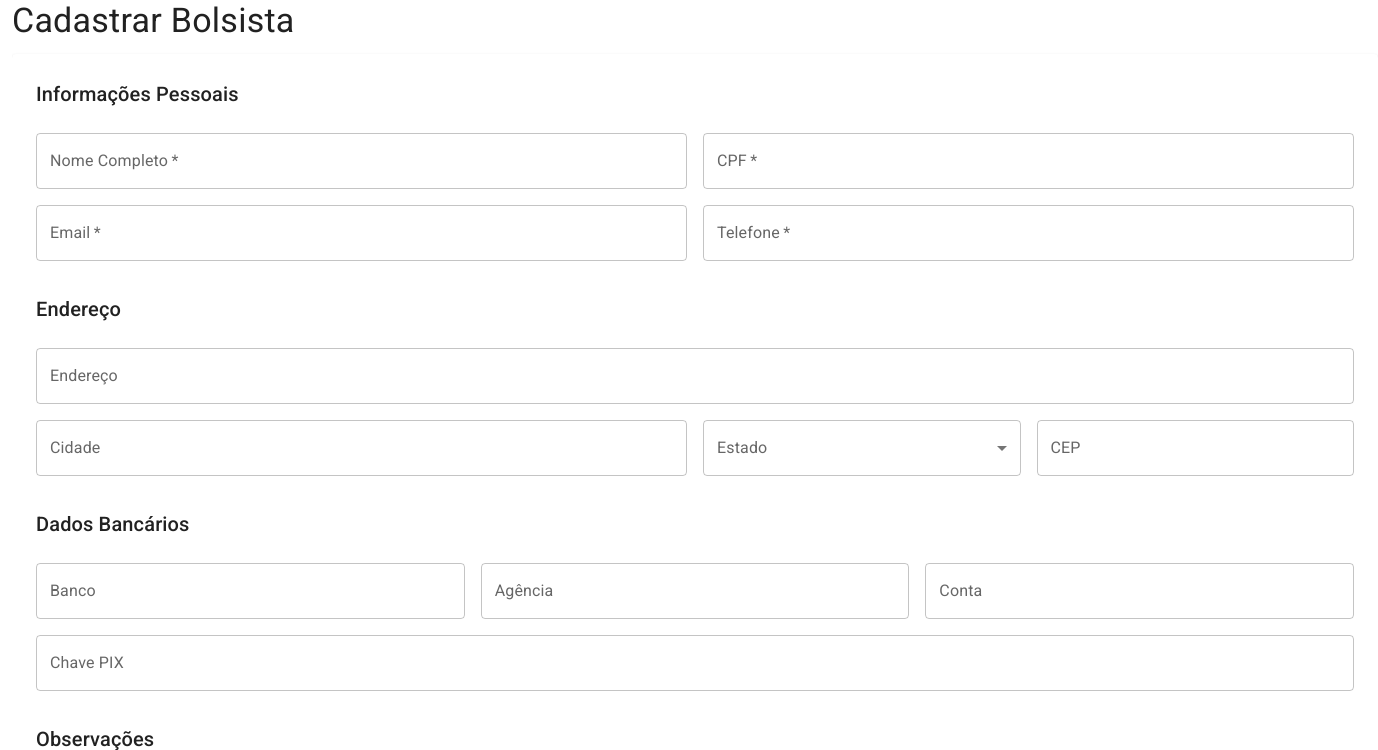
Scenario: BolsistasForm Component › valida CPF inválido
The image size is (1378, 750).
# Preencher com CPF inválido
Type "111.111.111-11" into the field labelled "CPF *" at coordinates (1028, 161), box [703,133,1354,189]
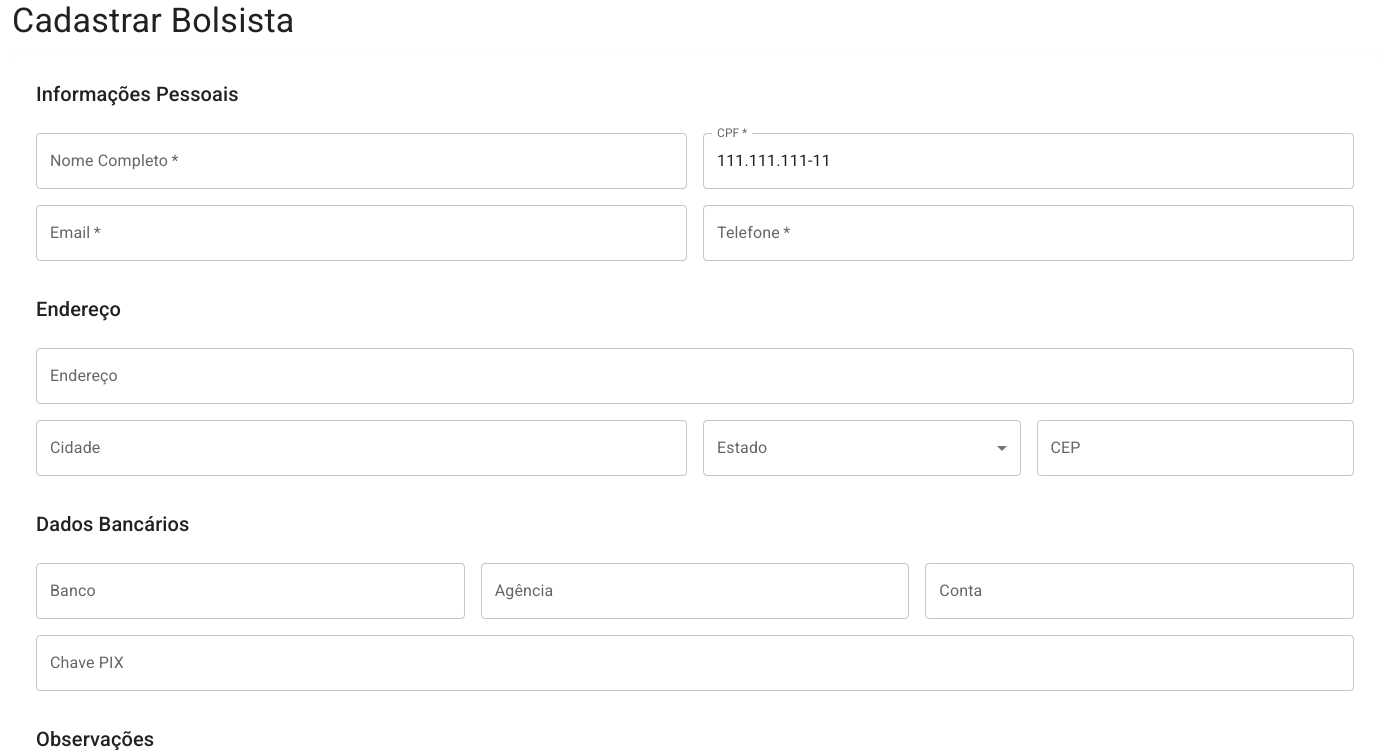
# Preencher outros campos obrigatórios
Type "João da Silva" into the field labelled "Nome Completo *" at coordinates (362, 161), box [36,133,687,189]
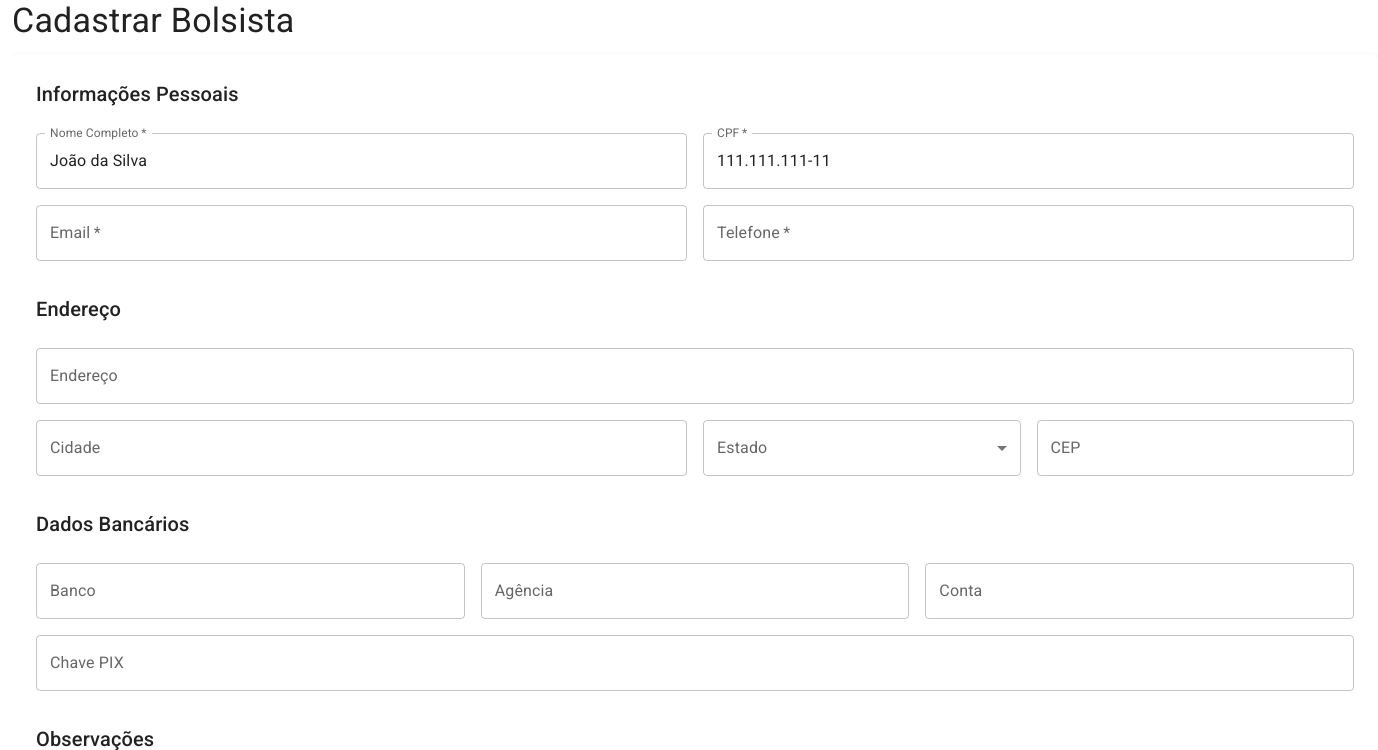
Type "joao@example.com" into the field labelled "Email *" at coordinates (362, 233), box [36,205,687,261]
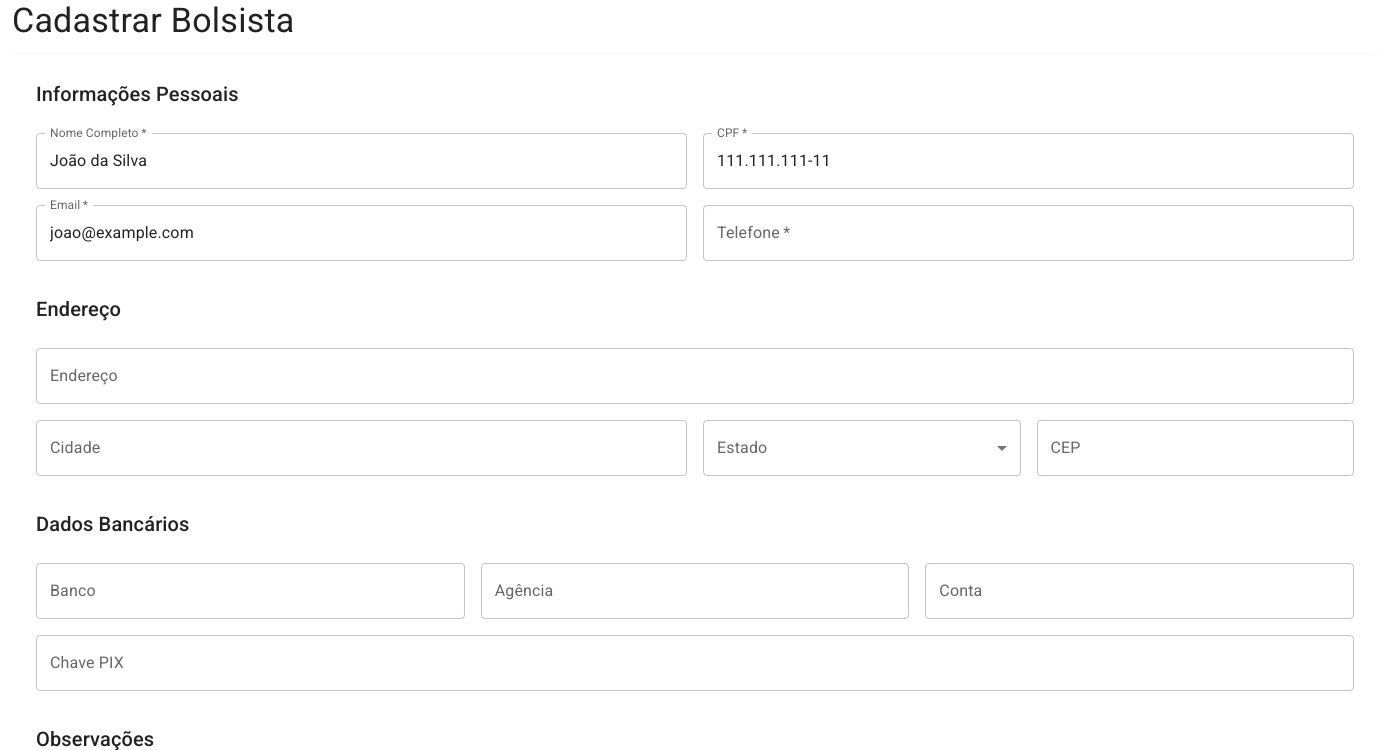
Type "(85) 99999-9999" into the field labelled "Telefone *" at coordinates (1028, 233), box [703,205,1354,261]
(page scrolled)
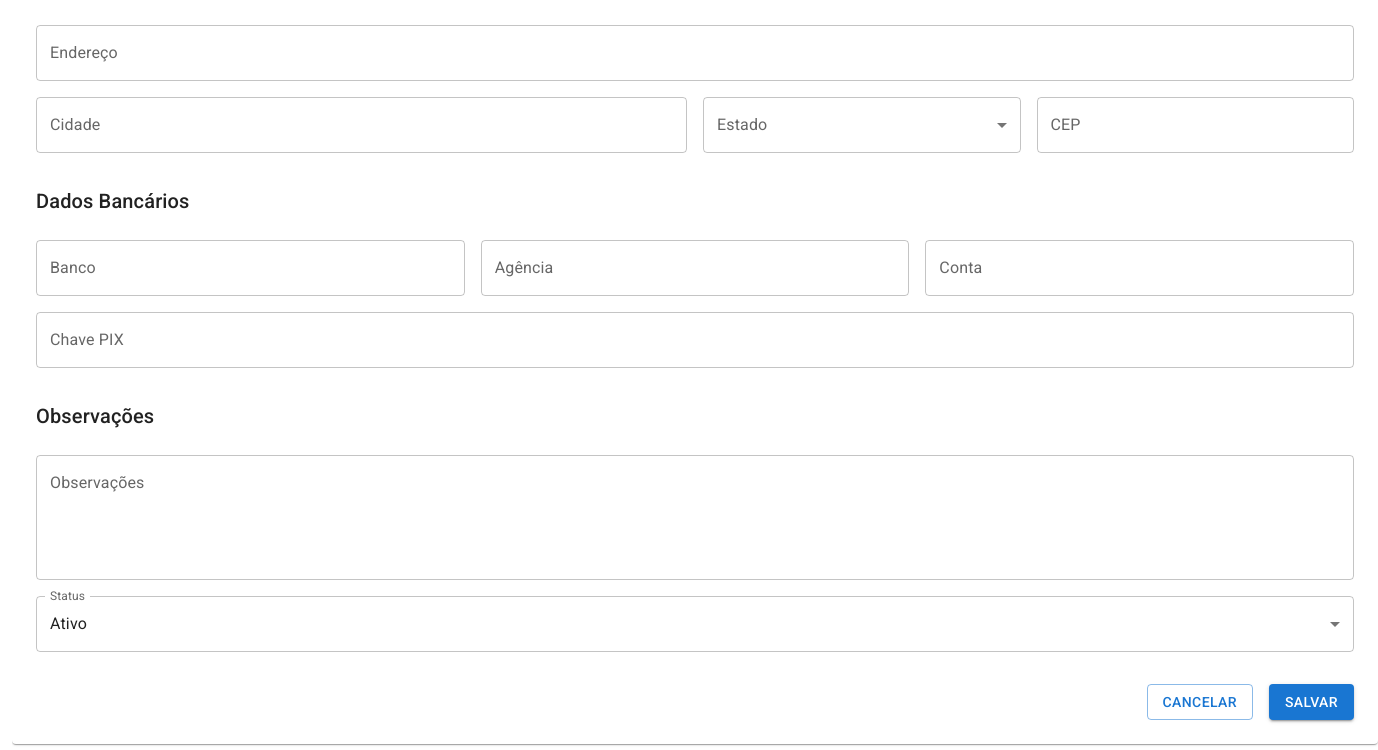
# Clicar no botão salvar
Click the button "Salvar" at coordinates (1311, 702), box [1269,684,1354,720]
(page scrolled)
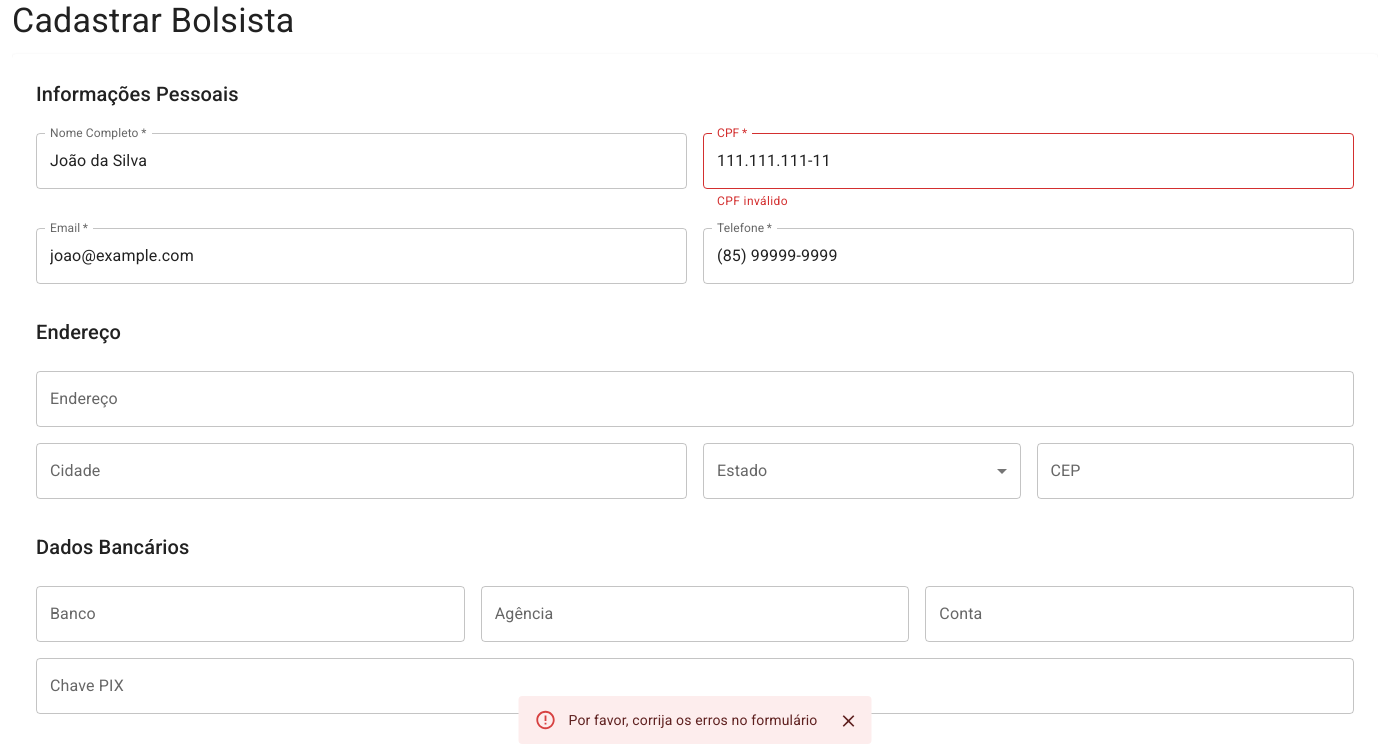
Expected: the text "CPF inválido" is shown, [717,194,788,208]
